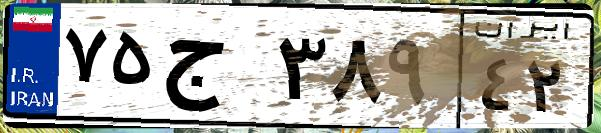2: (525, 38, 570, 115)
3: (270, 28, 330, 110)
4: (475, 38, 525, 113)
5: (110, 28, 158, 98)
7: (57, 26, 110, 100)
8: (330, 28, 385, 110)
9: (385, 28, 445, 110)
ج: (158, 20, 270, 120)
